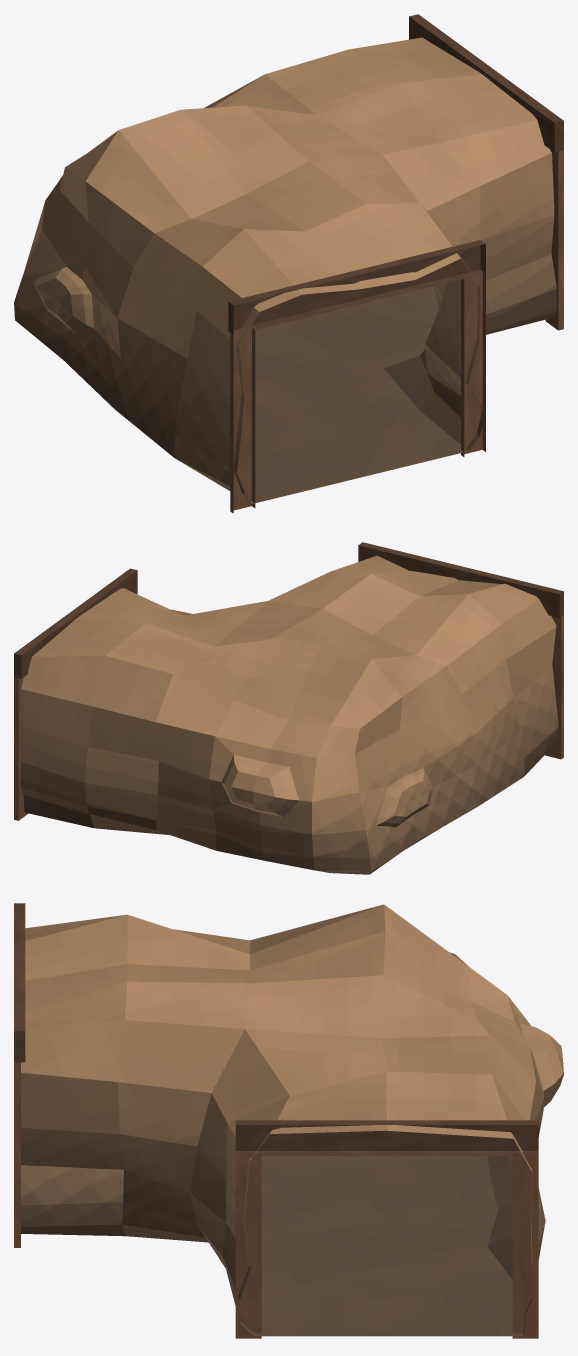
File: SM_OreLJunction.fbx
3 views of the same model, one above another, from view 1: azimuth 30°, elevation 25°; view 2: azimuth 150°, elevation 25°; view 3: azimuth 270°, elevation 25° (orthographic). The views are drawn at different scales.
Visible parts, largest first — view 1: L Junction.001, Support -y, Support x; view 2: L Junction.001, Support -y, Support x; view 3: L Junction.001, Support x, Support -y.
Part boxes in pixels (left/top/right/bottom): L Junction.001: left=14, top=37, right=556, bottom=503; Support -y: left=228, top=240, right=485, bottom=513; Support x: left=409, top=14, right=563, bottom=330; L Junction.001: left=20, top=555, right=558, bottom=874; Support -y: left=358, top=542, right=563, bottom=759; Support x: left=14, top=568, right=137, bottom=820; L Junction.001: left=21, top=904, right=563, bottom=1336; Support x: left=235, top=1120, right=538, bottom=1338; Support -y: left=14, top=903, right=25, bottom=1247.
Size of the model in its own units: 711 by 373 by 737.
